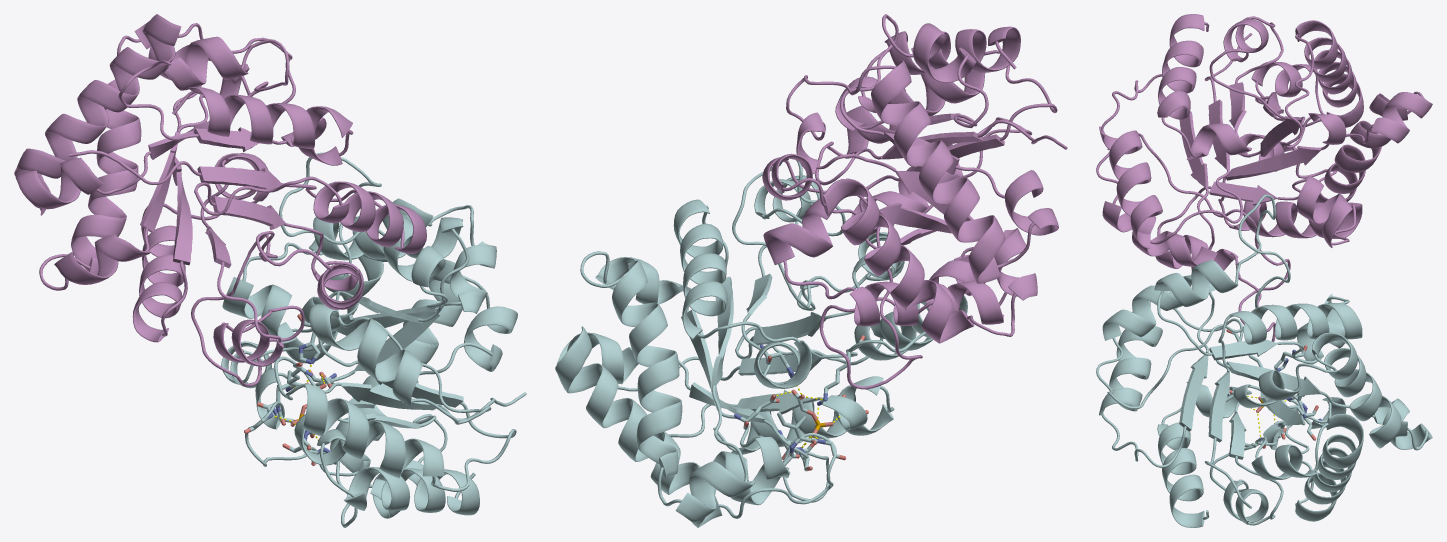
File: triosephosphate_isomerase_from_giardia_lamblia.glb
The picture shows the model from 3 angles, left to right: view 1: azimuth 30°, elevation 25°; view 2: azimuth 150°, elevation 25°; view 3: azimuth 270°, elevation 25°; orthographic projection. The views are drawn at different scales.
Visible parts, largest first — view 1: geom118-material, geom115-material, geom117-material, geom116-material, geom119-material; view 2: geom116-material, geom118-material, geom117-material, geom115-material, geom119-material; view 3: geom115-material, geom117-material, geom116-material, geom118-material, geom119-material.
Part boxes in pixels (x1=…): geom118-material: x1=14, y1=14, x2=295, y2=342; geom115-material: x1=222, y1=152, x2=526, y2=491; geom117-material: x1=69, y1=150, x2=479, y2=515; geom116-material: x1=221, y1=198, x2=517, y2=527; geom119-material: x1=118, y1=39, x2=353, y2=165; geom116-material: x1=555, y1=251, x2=894, y2=527; geom118-material: x1=762, y1=14, x2=1058, y2=343; geom117-material: x1=713, y1=50, x2=1067, y2=454; geom115-material: x1=617, y1=160, x2=967, y2=391; geom119-material: x1=835, y1=26, x2=1020, y2=131; geom115-material: x1=1096, y1=194, x2=1374, y2=508; geom117-material: x1=1096, y1=33, x2=1362, y2=527; geom116-material: x1=1158, y1=332, x2=1432, y2=525; geom118-material: x1=1209, y1=17, x2=1432, y2=238; geom119-material: x1=1157, y1=14, x2=1283, y2=159.
Size of the model in its own units: 66.67 by 66.73 by 47.45.
